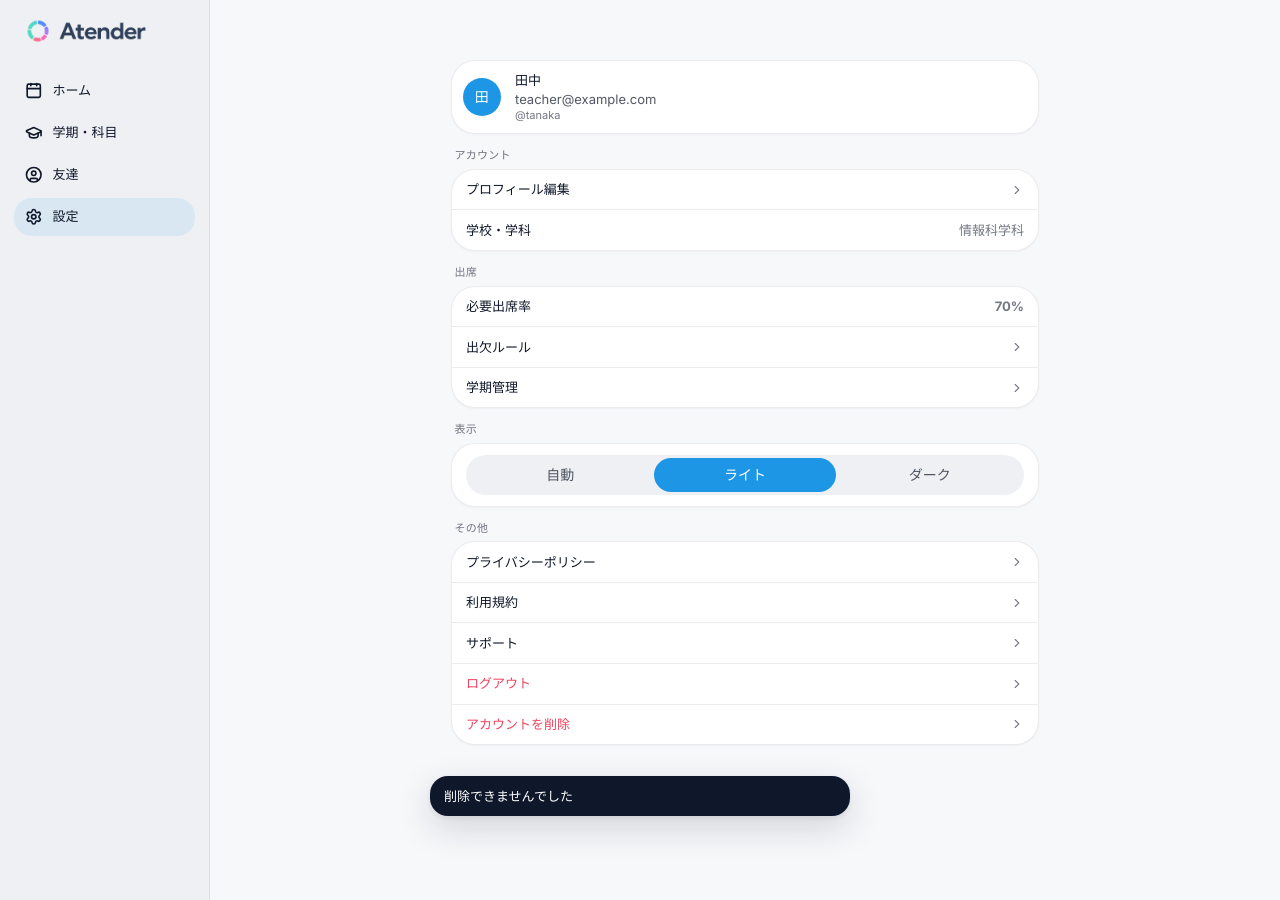
Test: [SM] semester list sheet › [SM21b] import button disabled when schoolName is null
Click the button "学期管理" at [492, 387], box [452,368,1038,407]
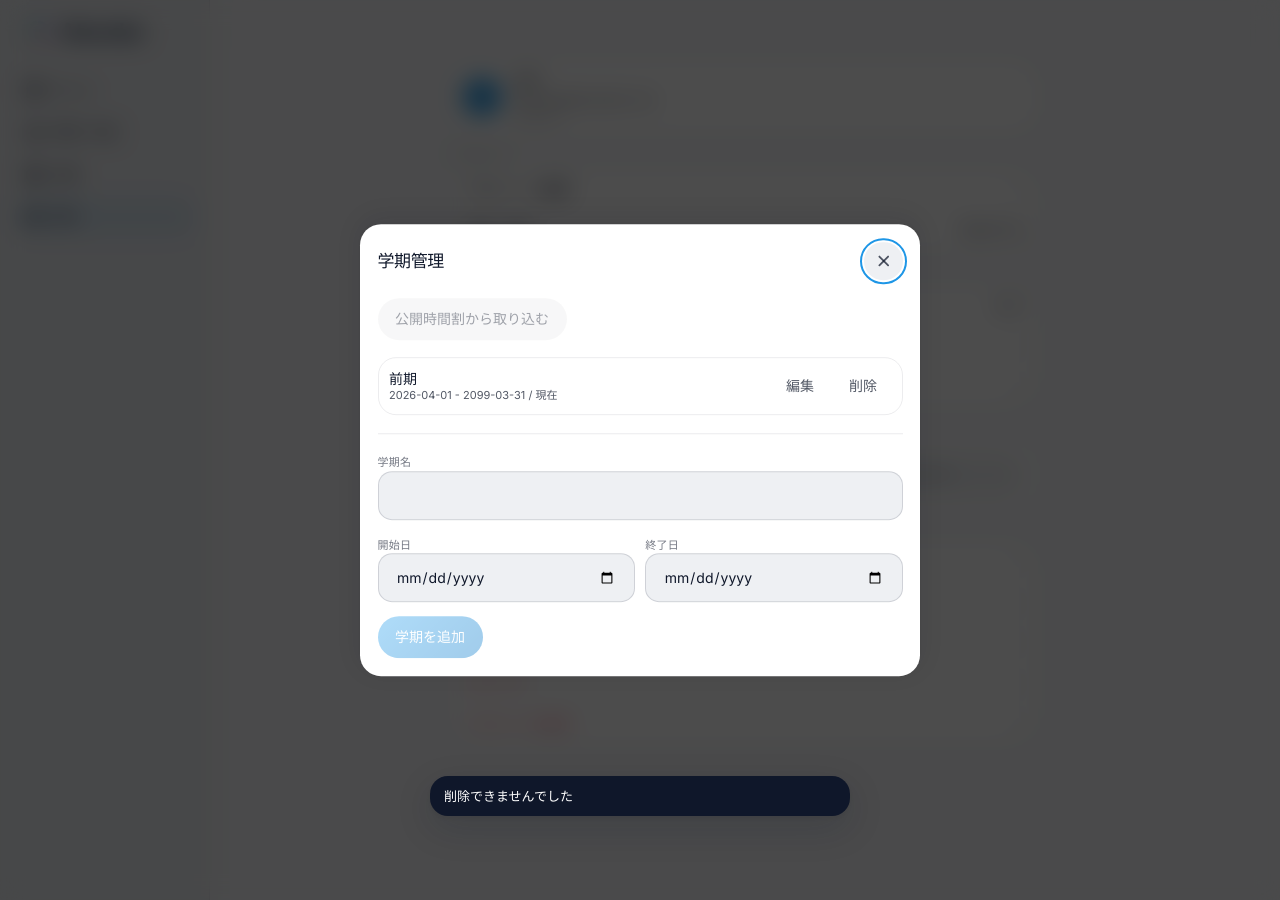
Check: the button with test id "semester-list-import-template" is disabled, box [378,298,566,340]
